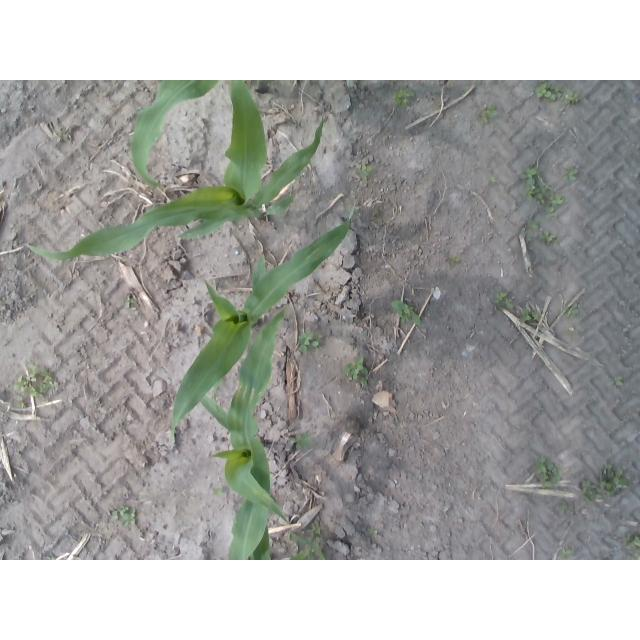Maize: (26, 83, 326, 262), (171, 202, 358, 445), (199, 308, 325, 560), (131, 80, 272, 188)
Weeds: (601, 465, 627, 496), (391, 299, 421, 325), (536, 457, 561, 487), (345, 356, 368, 379), (535, 83, 562, 101), (392, 88, 416, 107), (581, 479, 599, 501), (527, 182, 546, 202), (299, 334, 317, 355), (545, 193, 563, 214), (14, 379, 36, 394), (296, 435, 313, 452), (480, 105, 496, 123), (563, 168, 580, 183), (521, 168, 536, 185), (565, 89, 580, 104), (39, 376, 53, 392), (518, 304, 530, 322), (122, 513, 136, 528), (608, 376, 624, 388), (628, 535, 640, 550), (543, 230, 558, 242), (357, 165, 373, 176), (311, 520, 321, 534), (570, 303, 581, 315), (212, 485, 225, 495), (495, 292, 507, 302), (560, 549, 572, 559), (557, 501, 567, 512), (366, 528, 378, 537), (505, 297, 514, 308), (528, 221, 540, 229), (120, 505, 129, 515), (28, 374, 37, 383), (111, 511, 118, 521), (450, 257, 459, 264), (491, 177, 497, 184)
